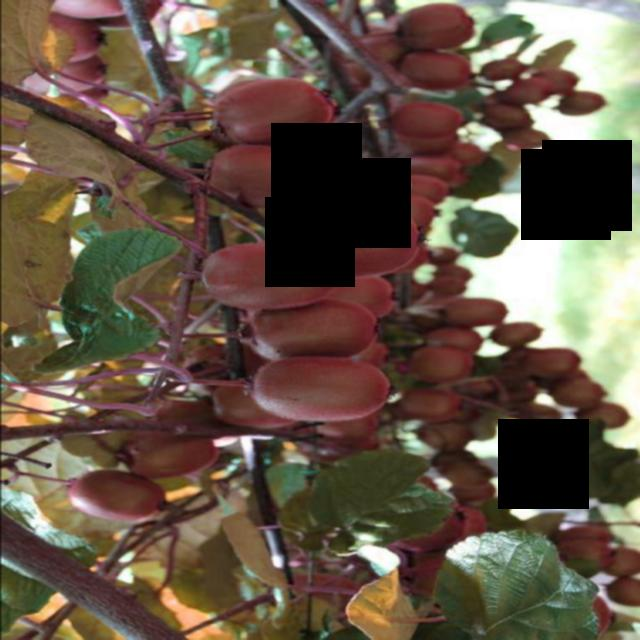kiwi: (274, 206, 425, 286), (243, 354, 395, 428), (193, 242, 344, 314), (208, 78, 344, 150), (196, 144, 330, 214), (242, 300, 380, 362), (64, 470, 170, 530), (117, 432, 219, 482), (207, 382, 301, 432), (388, 4, 482, 53), (35, 11, 111, 65), (390, 508, 471, 555), (323, 278, 405, 322), (395, 51, 475, 95), (388, 102, 468, 144), (331, 156, 408, 195), (364, 195, 442, 231), (404, 346, 475, 385), (397, 387, 468, 425), (435, 296, 507, 332), (556, 537, 623, 575), (45, 57, 109, 96), (398, 555, 448, 603), (543, 377, 610, 412), (174, 341, 226, 383), (45, 1, 139, 24), (405, 155, 465, 191), (566, 403, 634, 433), (516, 348, 583, 378), (399, 173, 456, 206), (482, 321, 549, 349), (439, 460, 497, 492), (425, 326, 487, 354), (479, 103, 533, 135), (502, 78, 563, 106), (595, 575, 640, 608), (595, 548, 640, 579)
